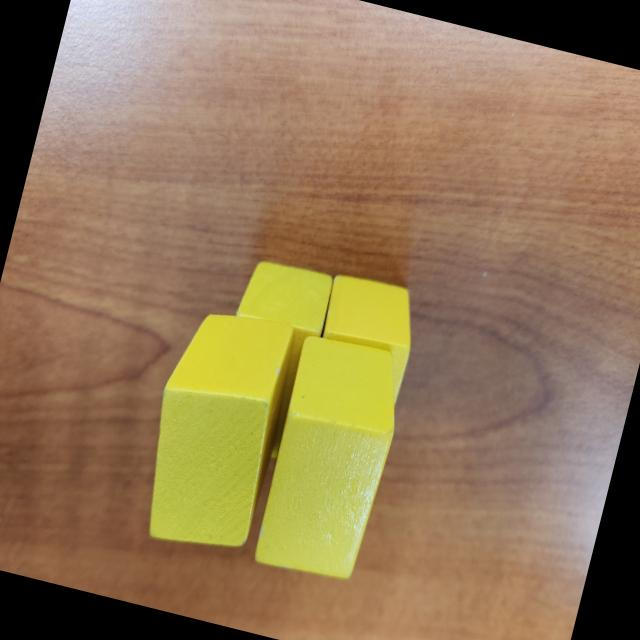yellow: (126, 300, 306, 564), (246, 330, 415, 590), (202, 255, 336, 466), (305, 272, 423, 412)
